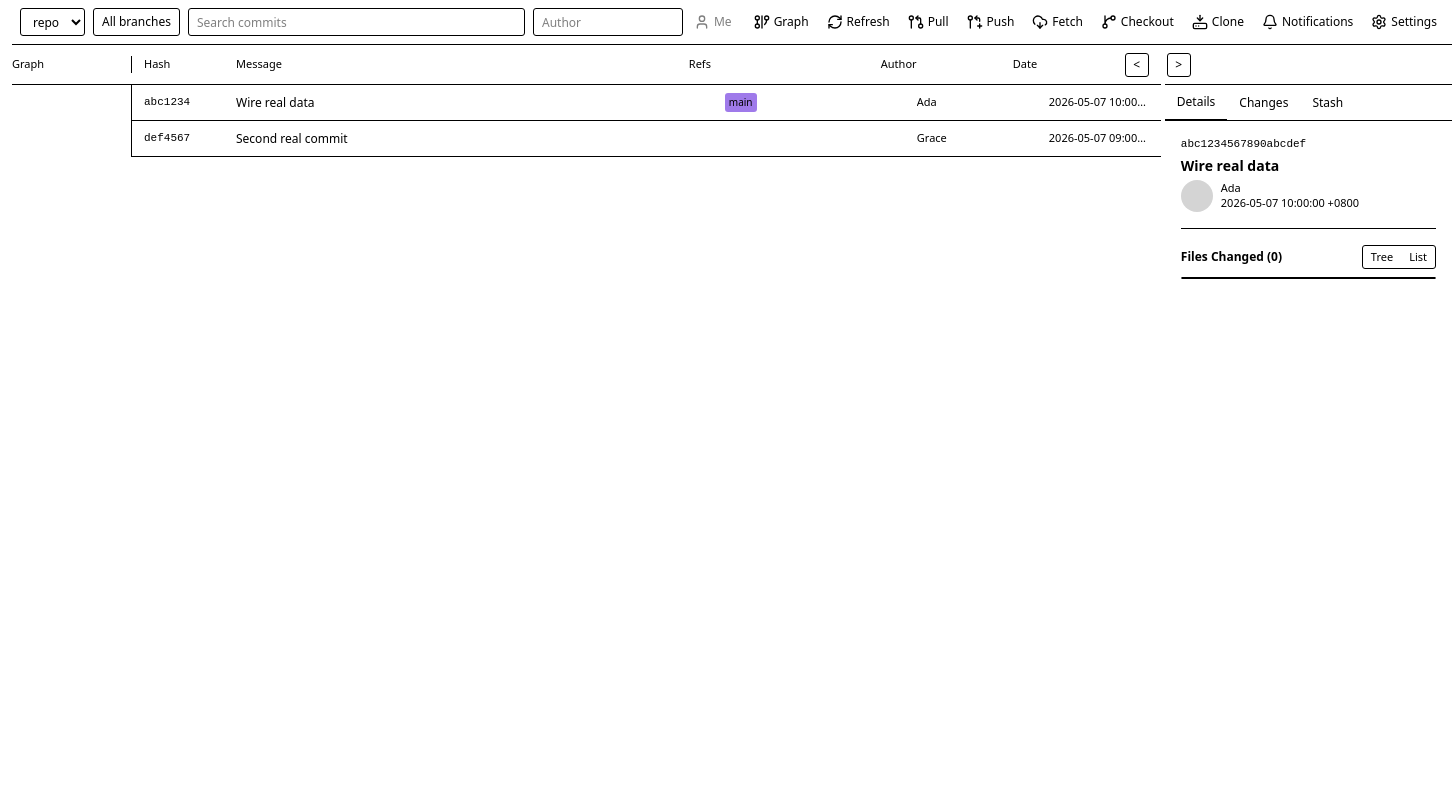
Test case: App › keeps older same-repository working tree action responses from replacing newer changes
Click the tab "Changes": click(1264, 102) [1227,85,1300,120]
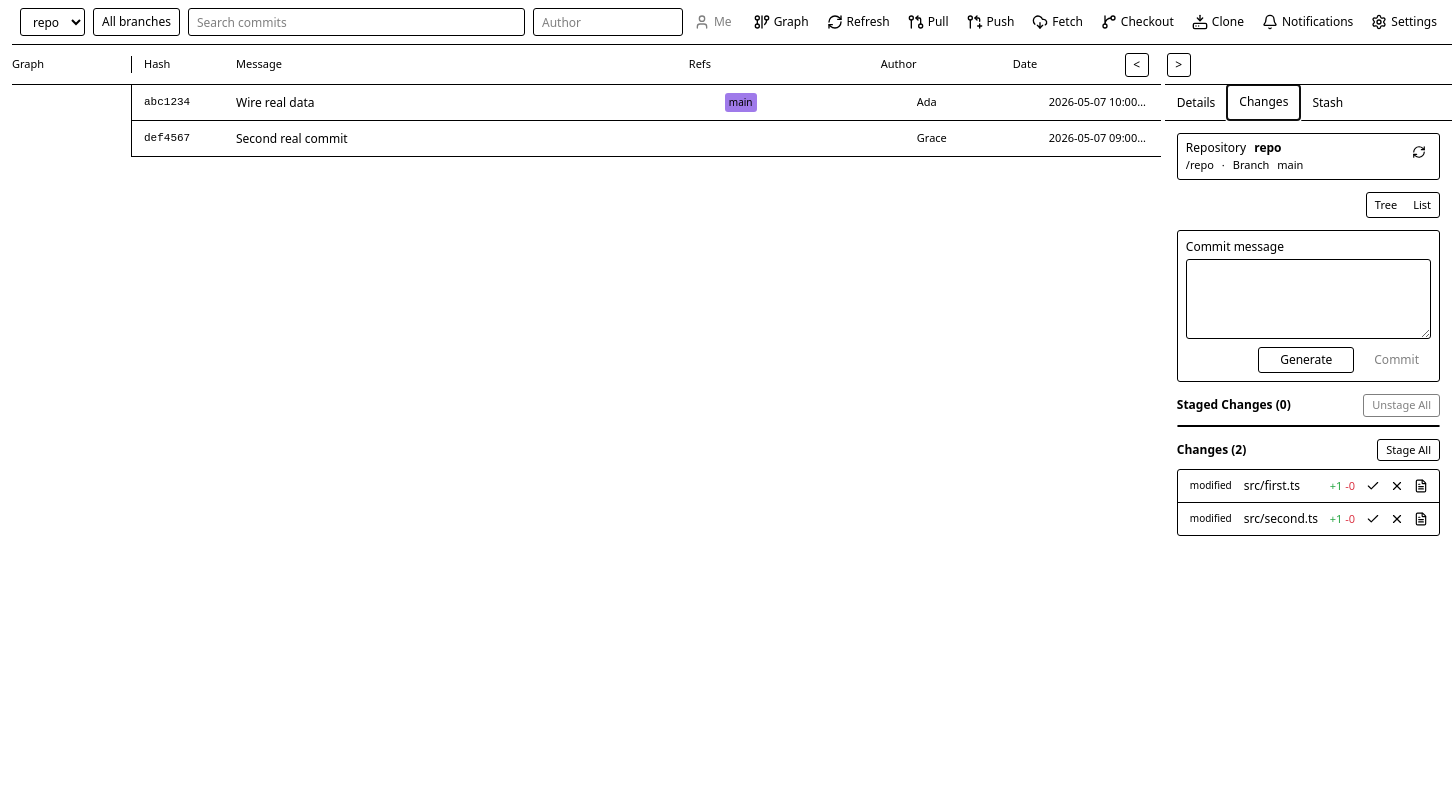
Click the button named "Stage src/first.ts": click(1373, 486) [1363,476,1383,496]
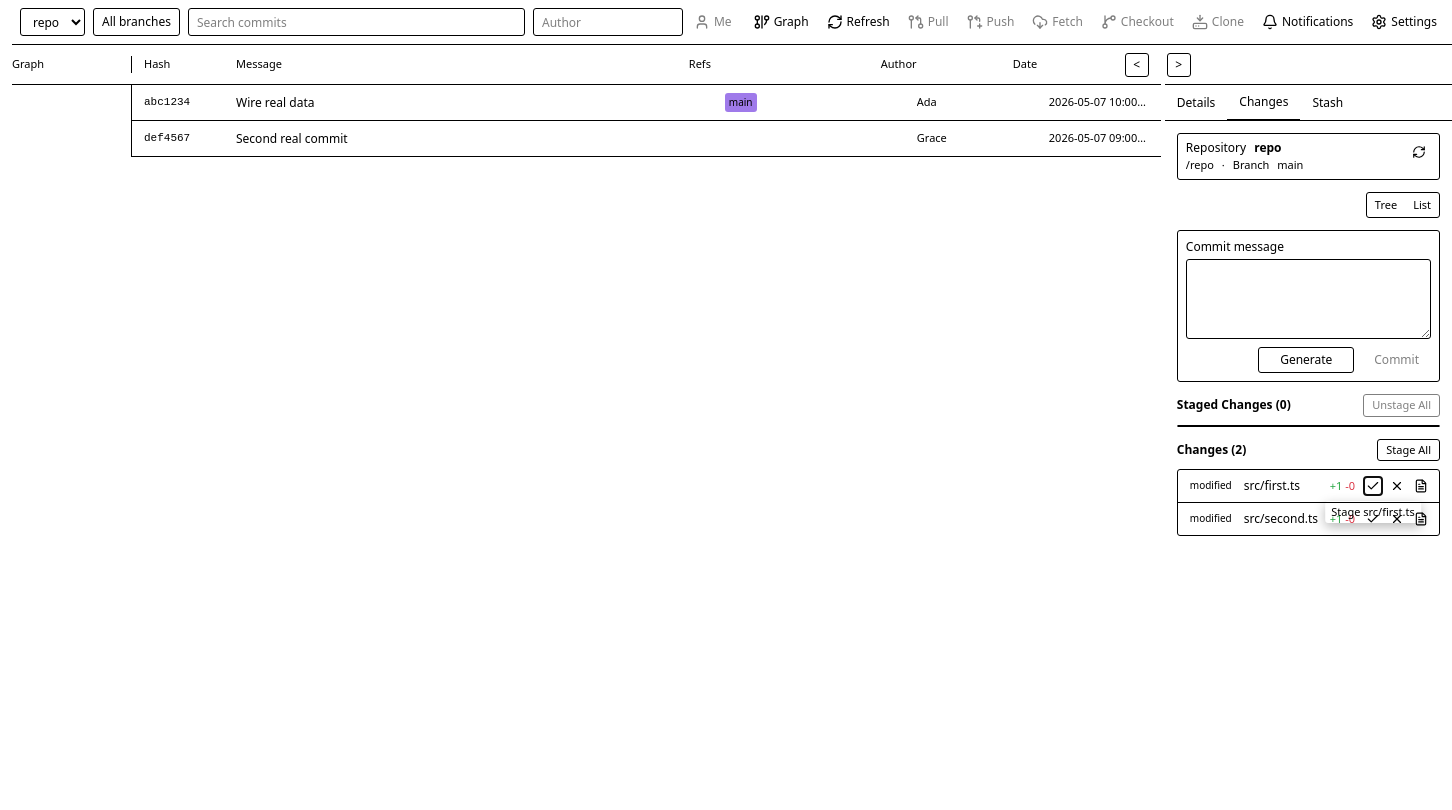
Click the button named "Stage src/second.ts": click(1373, 519) [1363,509,1383,529]
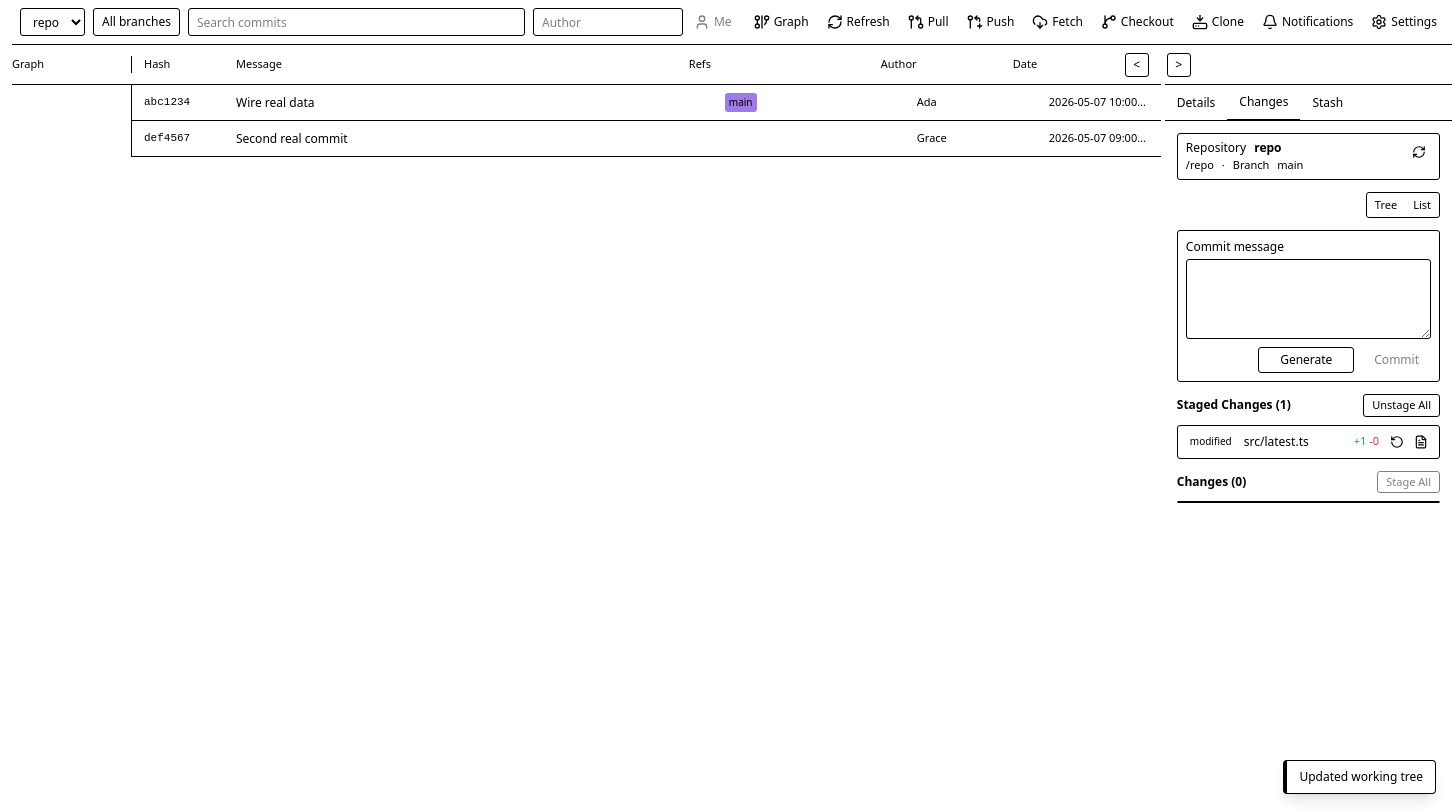
expect the button "src/latest.ts" is shown: met, box [1244,434,1346,450]
